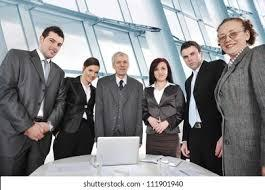No_Goggles: (45, 37, 62, 45), (154, 66, 167, 72)
No_Helmet: (42, 24, 66, 37), (82, 57, 101, 68), (111, 50, 130, 60)
